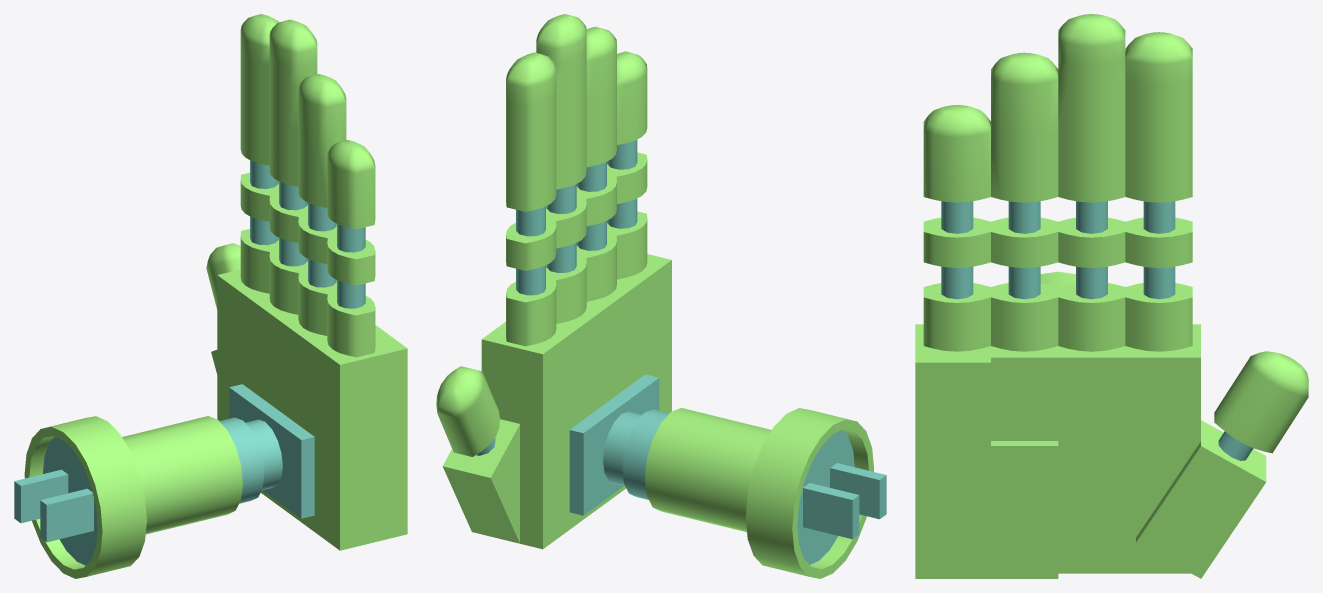
Rendered from HandShield.fbx.
3 views of the same model, side by side, from view 1: azimuth 30°, elevation 25°; view 2: azimuth 150°, elevation 25°; view 3: azimuth 270°, elevation 25° (orthographic). The views are drawn at different scales.
Visible parts, largest first — view 1: handEnd, handBase, handMid; view 2: handEnd, handBase, handMid; view 3: handEnd.
Boxes of the visible parts, bbox=[...] form: handEnd: bbox=[206, 14, 407, 550]; handBase: bbox=[14, 416, 242, 578]; handMid: bbox=[219, 417, 264, 503]; handEnd: bbox=[436, 14, 671, 549]; handBase: bbox=[645, 408, 886, 578]; handMid: bbox=[622, 409, 669, 499]; handEnd: bbox=[915, 14, 1308, 578].
Bounding box in the file's own units: 4.69 × 6.77 × 4.33.
